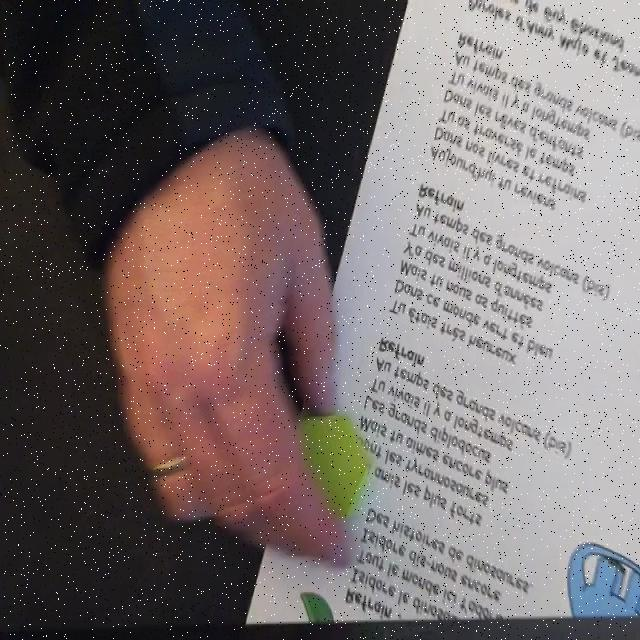hexagon: (283, 410, 372, 523)
